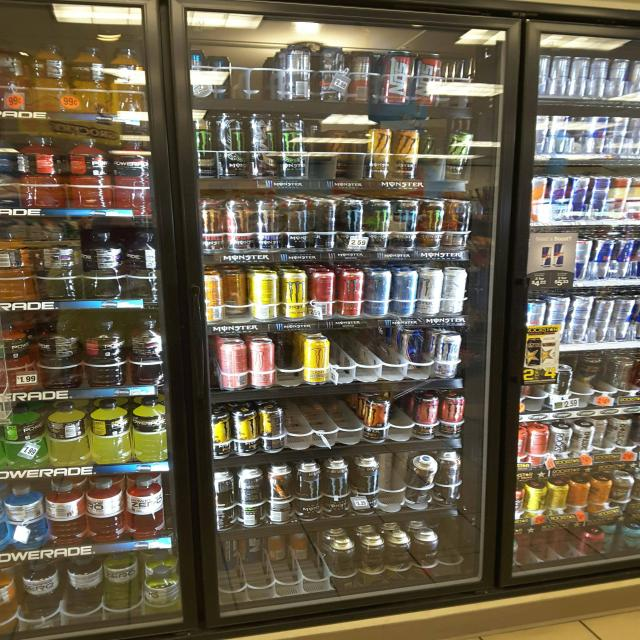empty: (283, 388, 362, 451), (227, 34, 279, 97), (335, 330, 401, 377)
